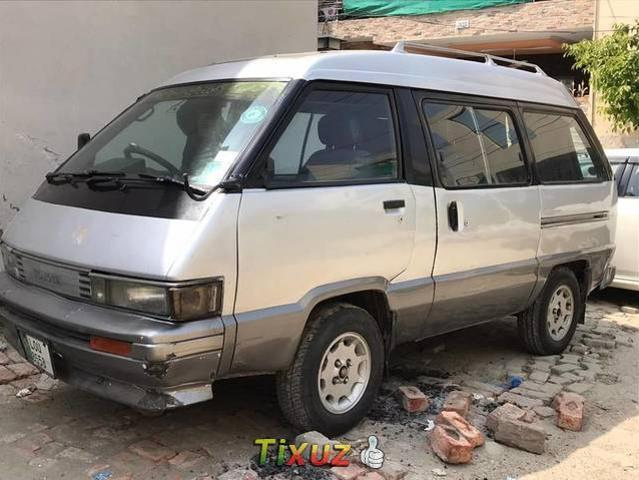van: (3, 43, 626, 410)
